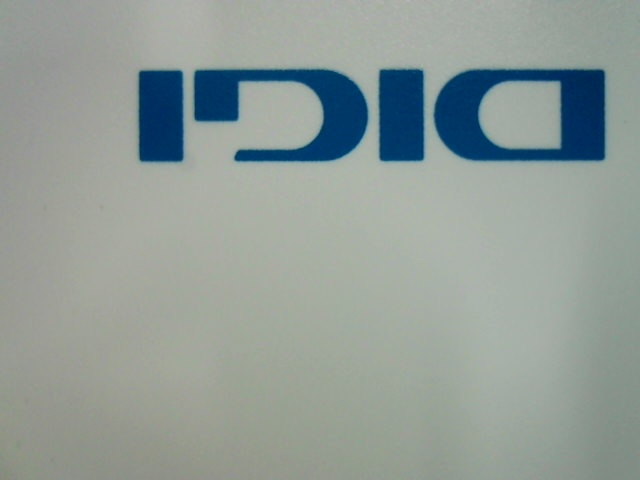BL_DIGI: (131, 58, 608, 165)
